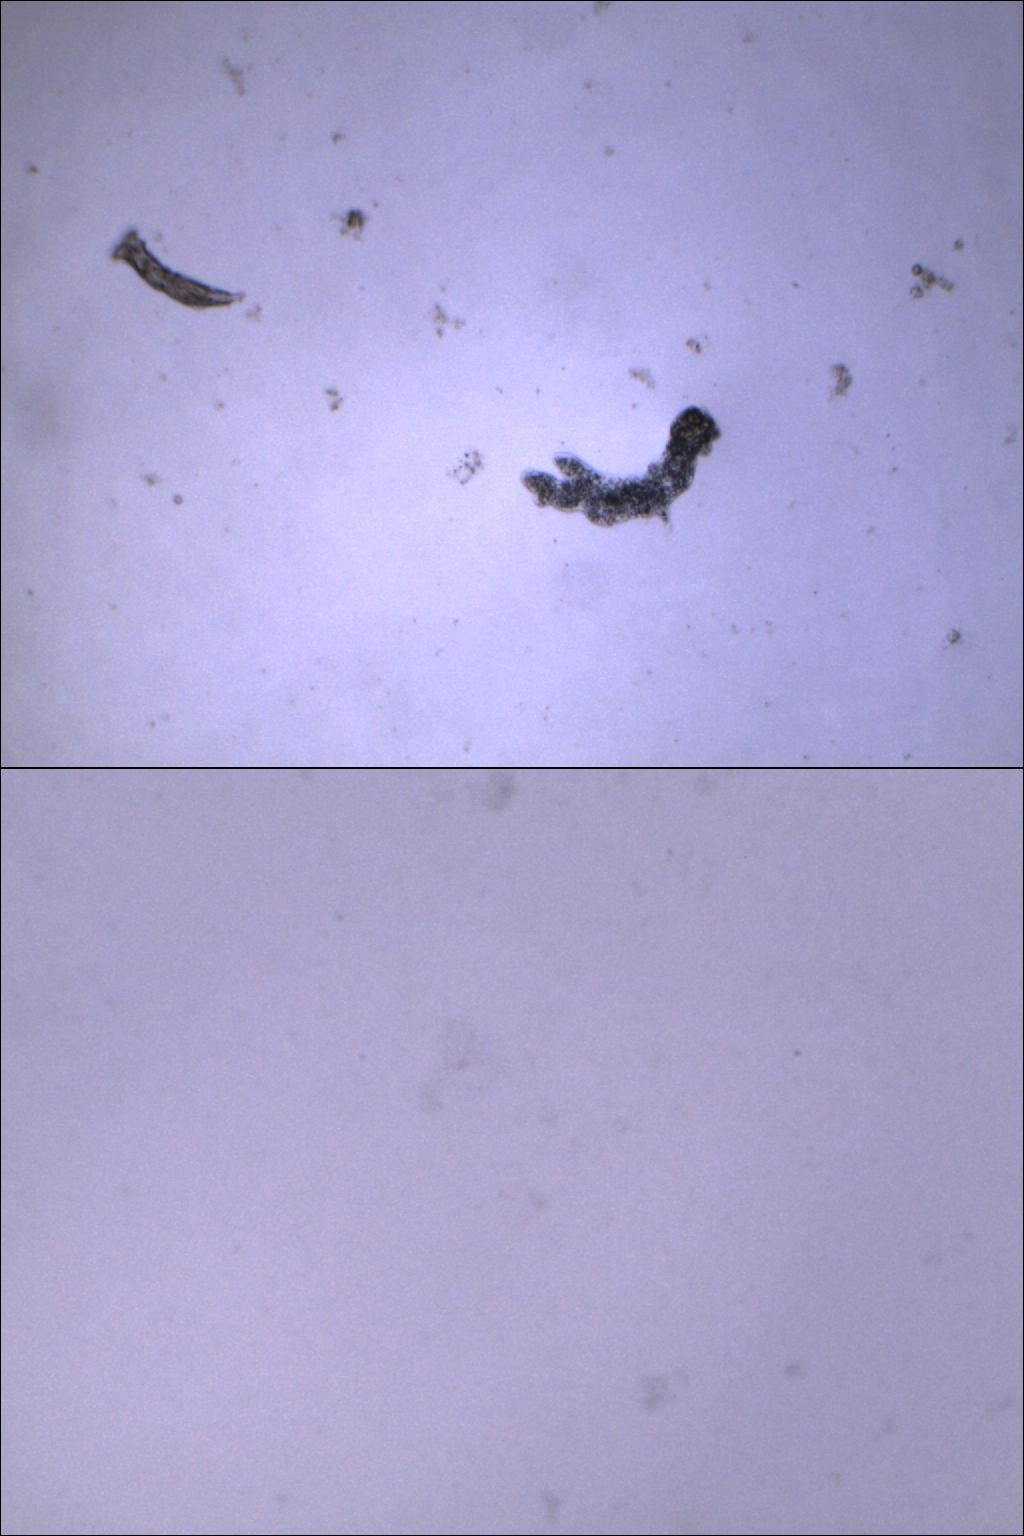N.Fowleri Amoeba: (384, 998, 519, 1139)
Proteus Amoeba: (522, 401, 728, 538)
